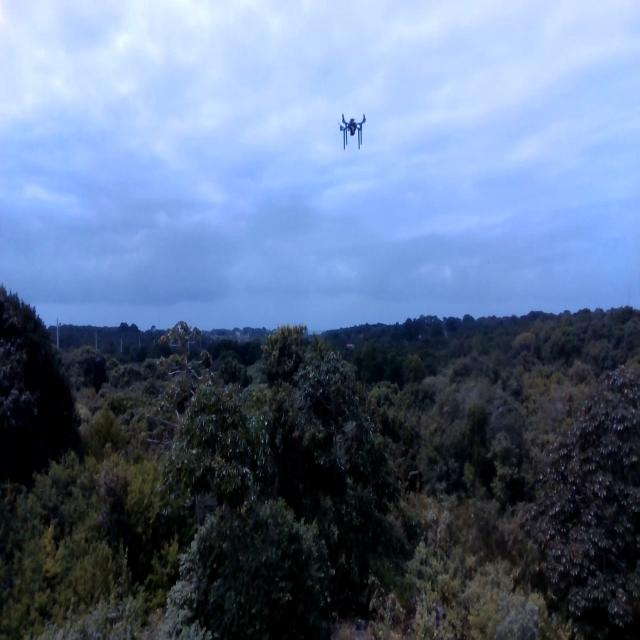-uav-: (332, 98, 372, 162)
